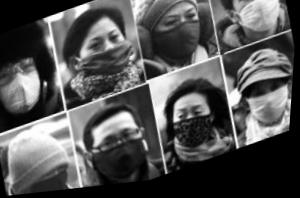OK: (91, 120, 157, 188), (149, 3, 210, 70), (1, 49, 55, 119), (243, 77, 295, 137), (168, 100, 223, 156), (31, 160, 78, 195)
WRONG: (79, 26, 137, 86), (229, 1, 289, 43)
